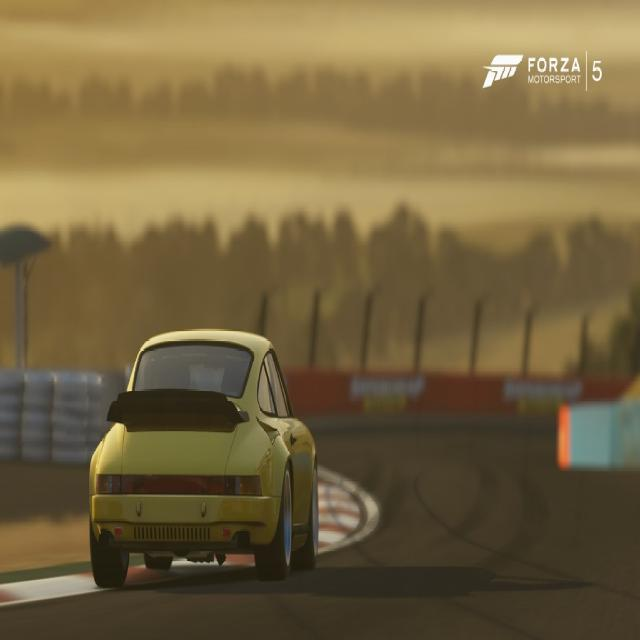car: (81, 330, 319, 583)
